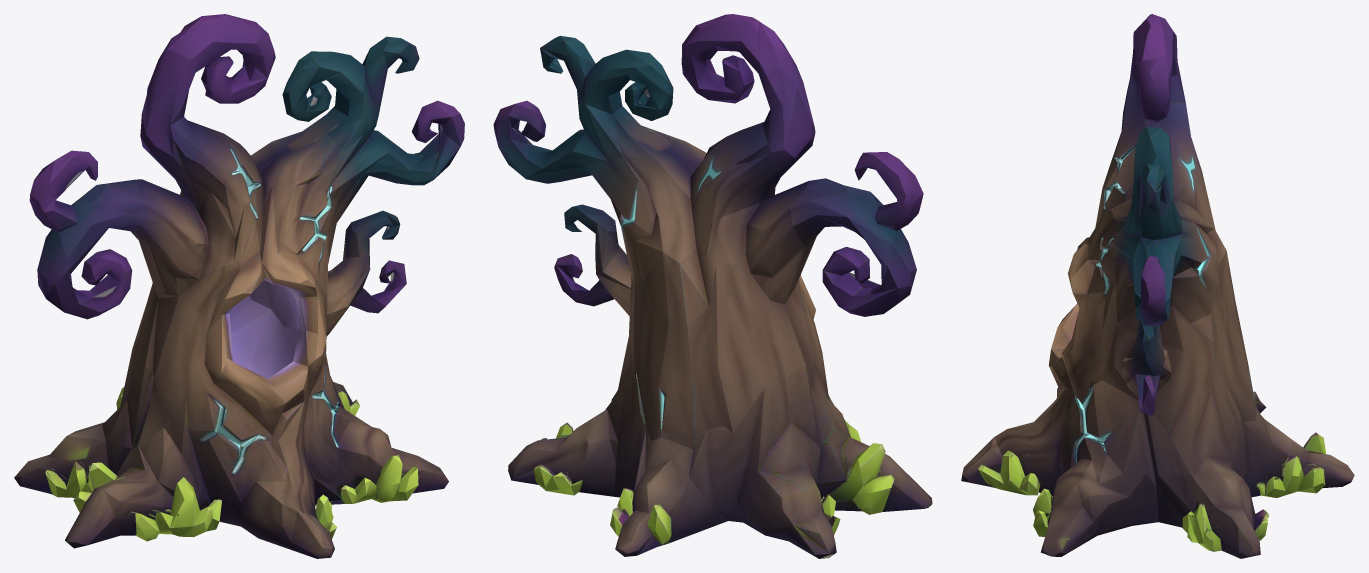
Rendered from dead_tree.glb.
The picture shows the model from 3 angles, left to right: view 1: azimuth 30°, elevation 25°; view 2: azimuth 150°, elevation 25°; view 3: azimuth 270°, elevation 25°; orthographic projection. The views are drawn at different scales.
Size of the model in its own units: 1.8 by 1.9 by 1.49.
1 material, 1 textured.
